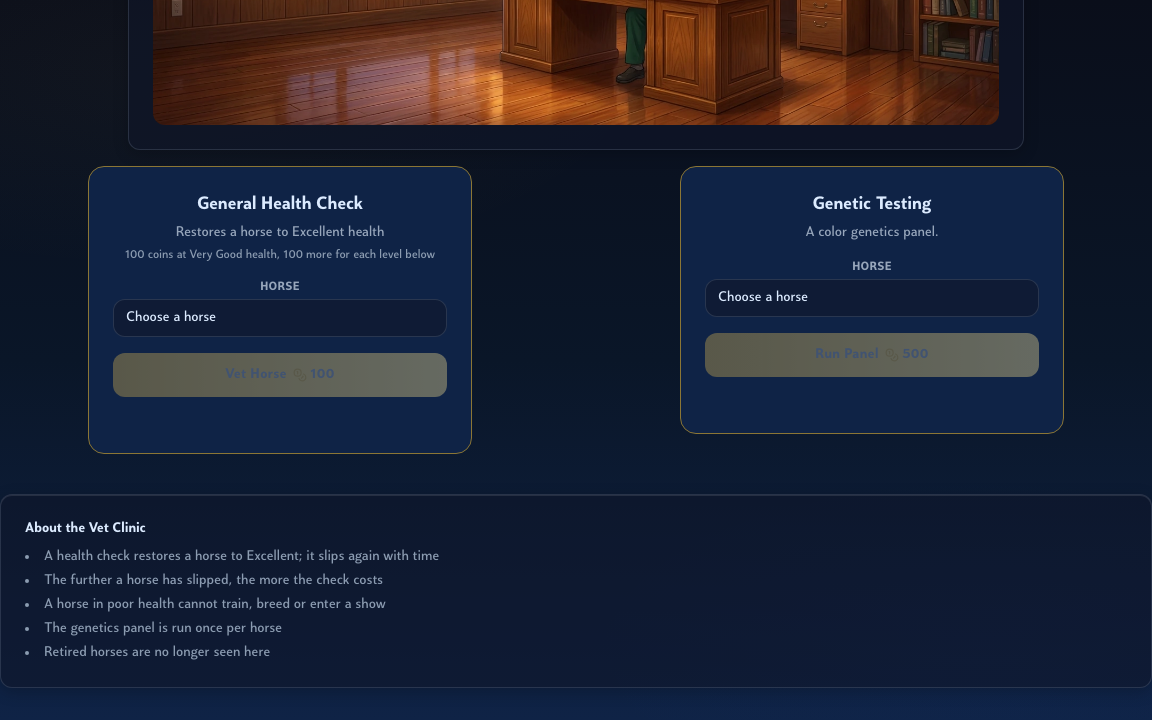
Test: VeterinarianPage (Equoria-7dmzp) › greys the horse out after it is vetted, once the list is refreshed
(page scrolled)
Select "Due Mare (Bad)" in the dropdown labelled "Horse" below "Restores a horse to Excellent health" at (280,318), box 113,299 -> 447,337
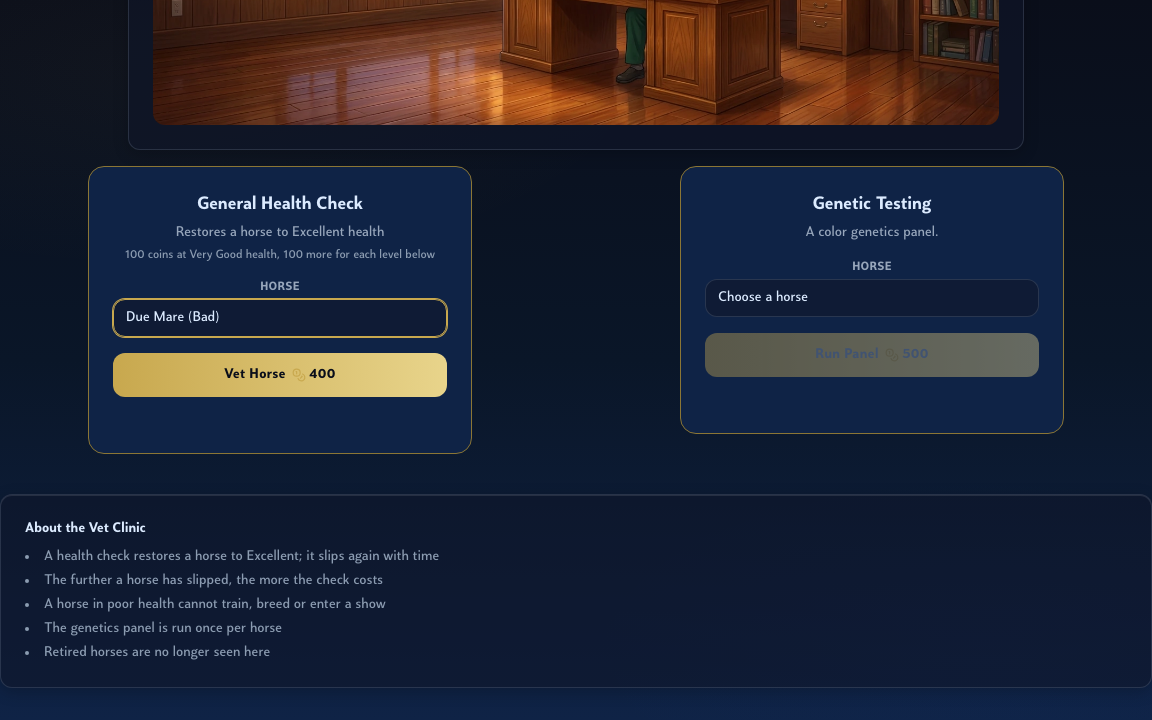
Click the button "Vet Horse 400" at (280,375), box 113,353 -> 447,397
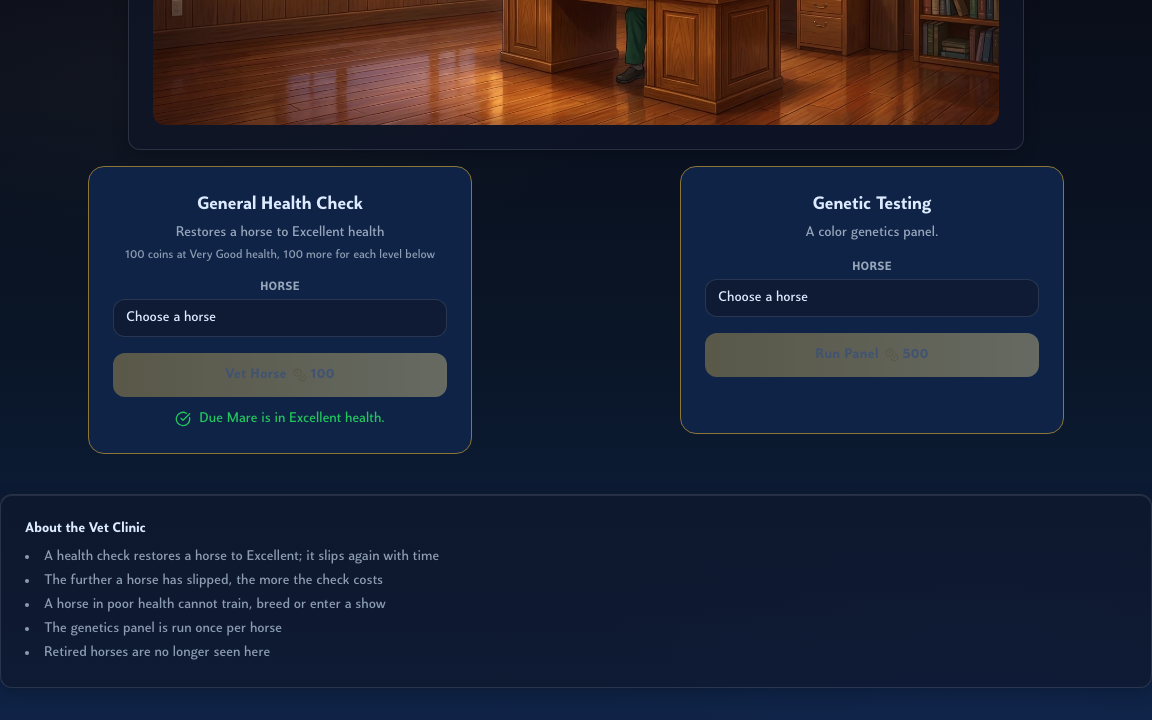
Now the text "Due Mare is in Excellent health." is shown, box 175,411 -> 385,427
Now the button "Vet Horse 100" is disabled, box 113,353 -> 447,397
